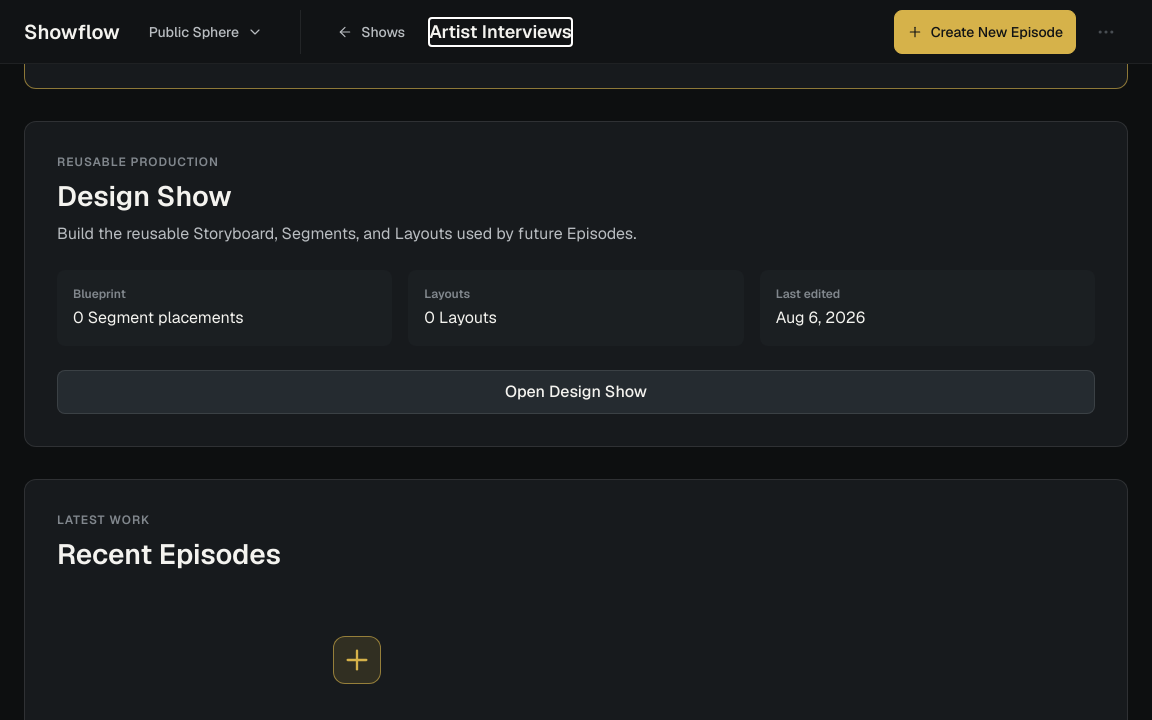
App › prioritizes Show Detail actions and exposes empty Episode placeholders
(page scrolled)
Check: the heading "Artist Interviews" is shown, box [429,18,572,46]
Check: the text "0 Segment placements" is shown, box [73,307,244,328]
Click the button "Open Design Show": click(576, 392) [57,370,1095,414]
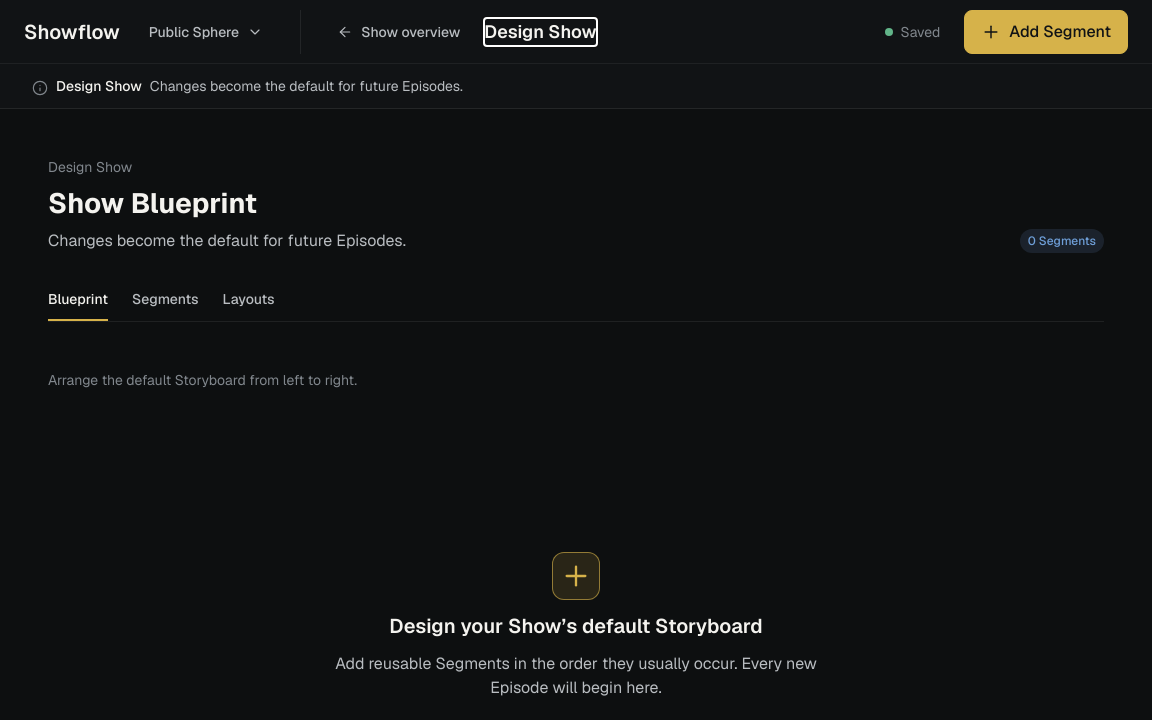
Check: the heading "Design your Show’s default Storyboard" is shown, box [389,612,763,640]
